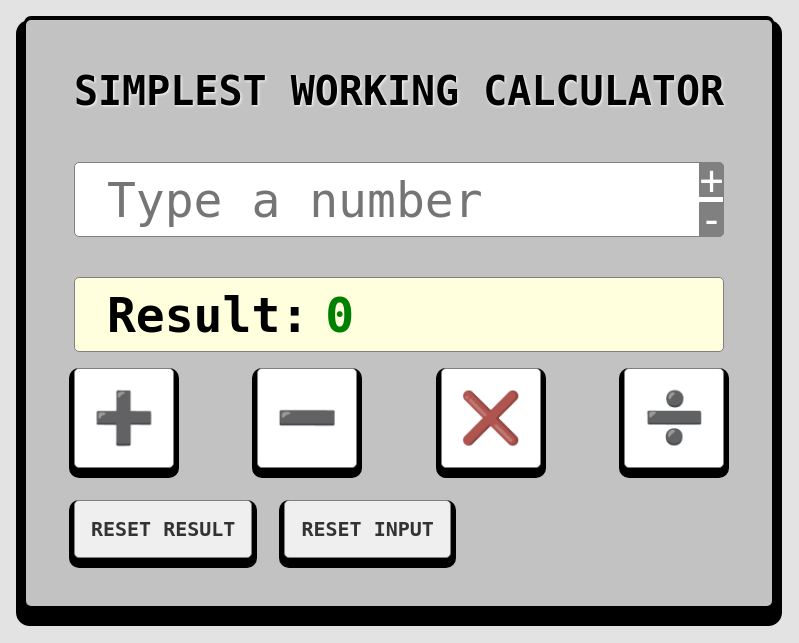
it: Calc app Math operations › Divide 0 to something
The image size is (799, 643).
Type "100" into the number field titled "input".
click(399, 200); type("100")  # box [74,162,724,237]
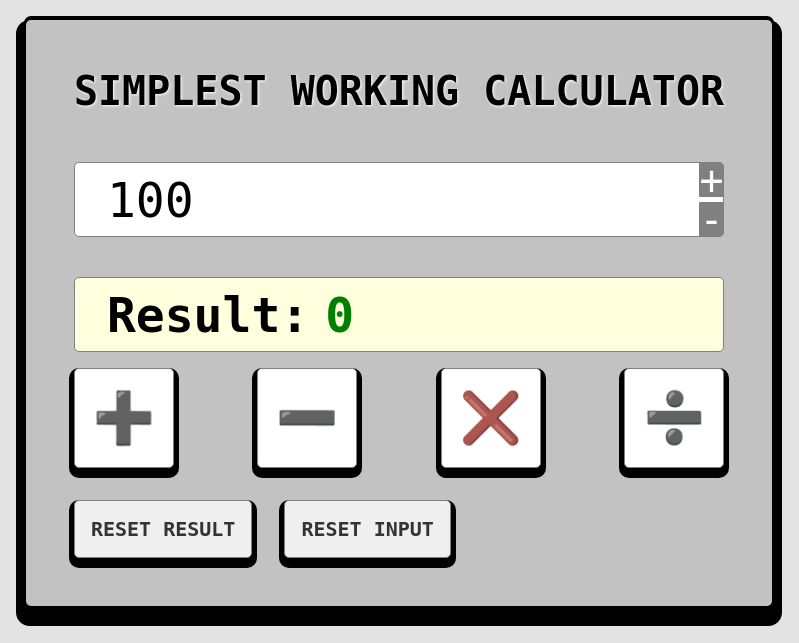
Click the button titled "add".
click(124, 418)  # box [74,368,174,468]
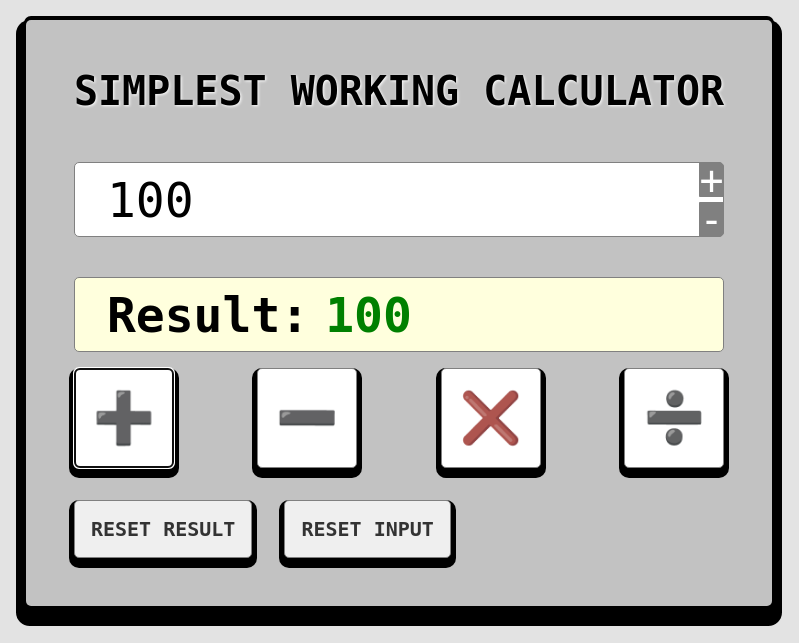
Replace the text in the number field titled "input" with "-100" at (399, 200), box [74,162,724,237]
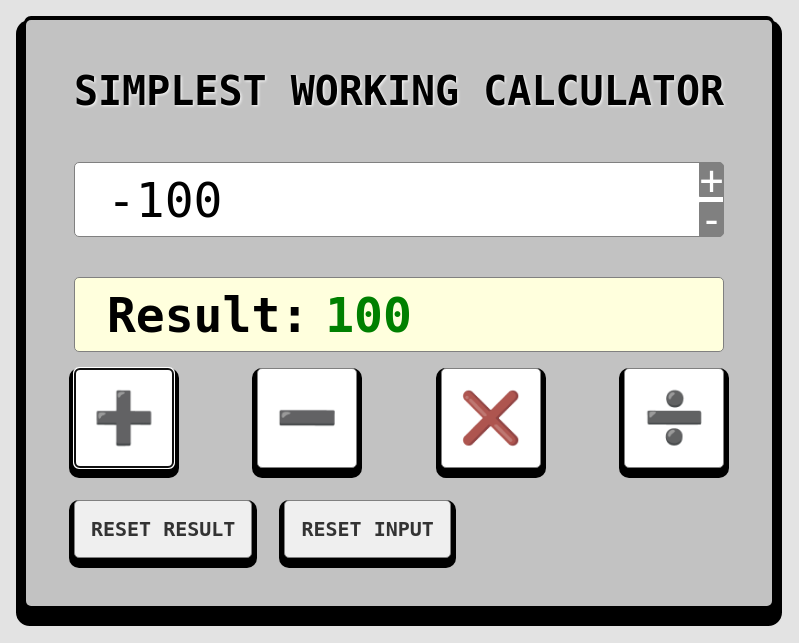
Click the button titled "add".
click(124, 418)  # box [74,368,174,468]
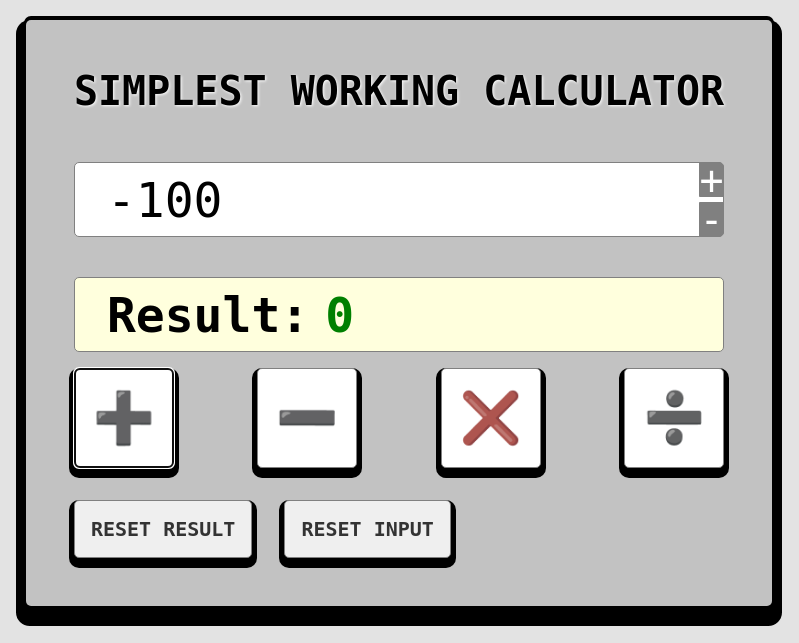
Replace the text in the number field titled "input" with "5" at (399, 200), box [74,162,724,237]
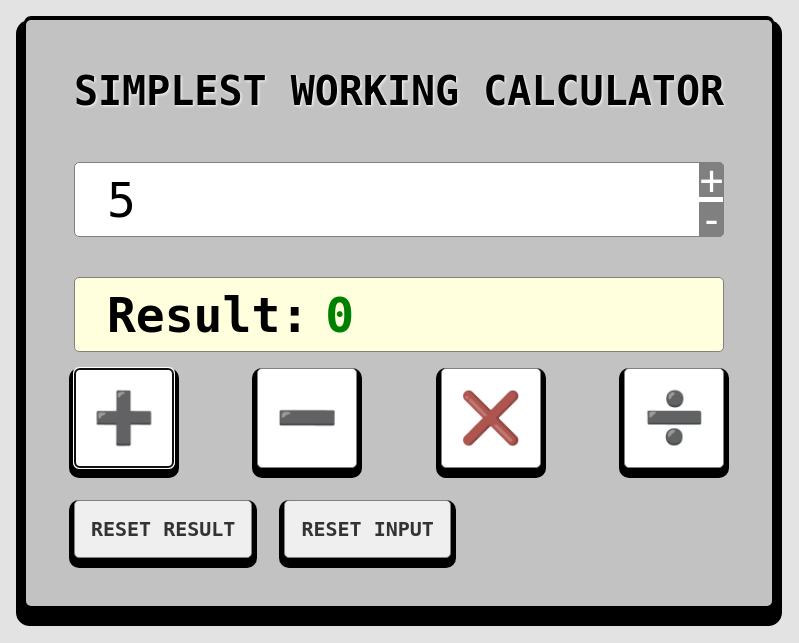
Click the button titled "divide".
click(674, 418)  # box [624,368,724,468]
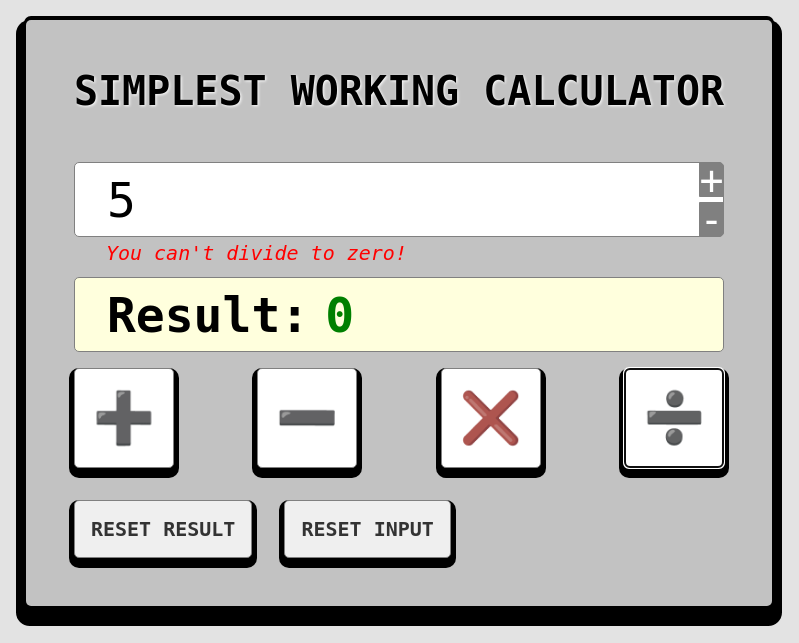
Now the text "You can't divide to zero!" is shown, box [106,241,407,265]
